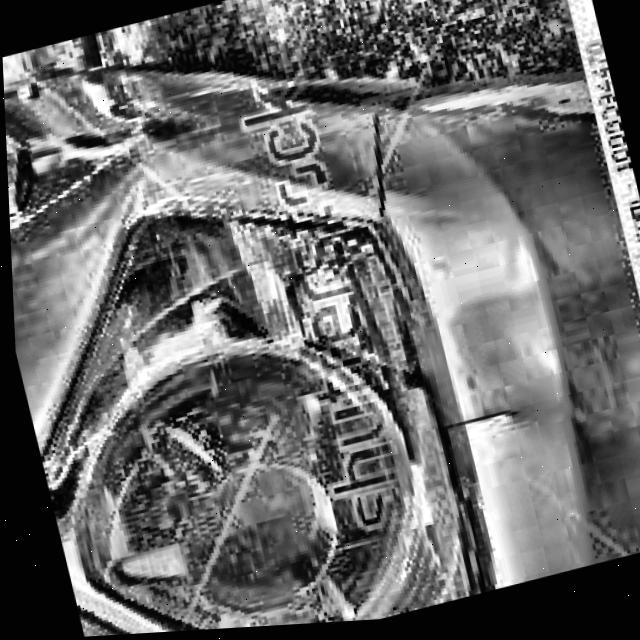tail_lamp: (40, 195, 479, 638)
